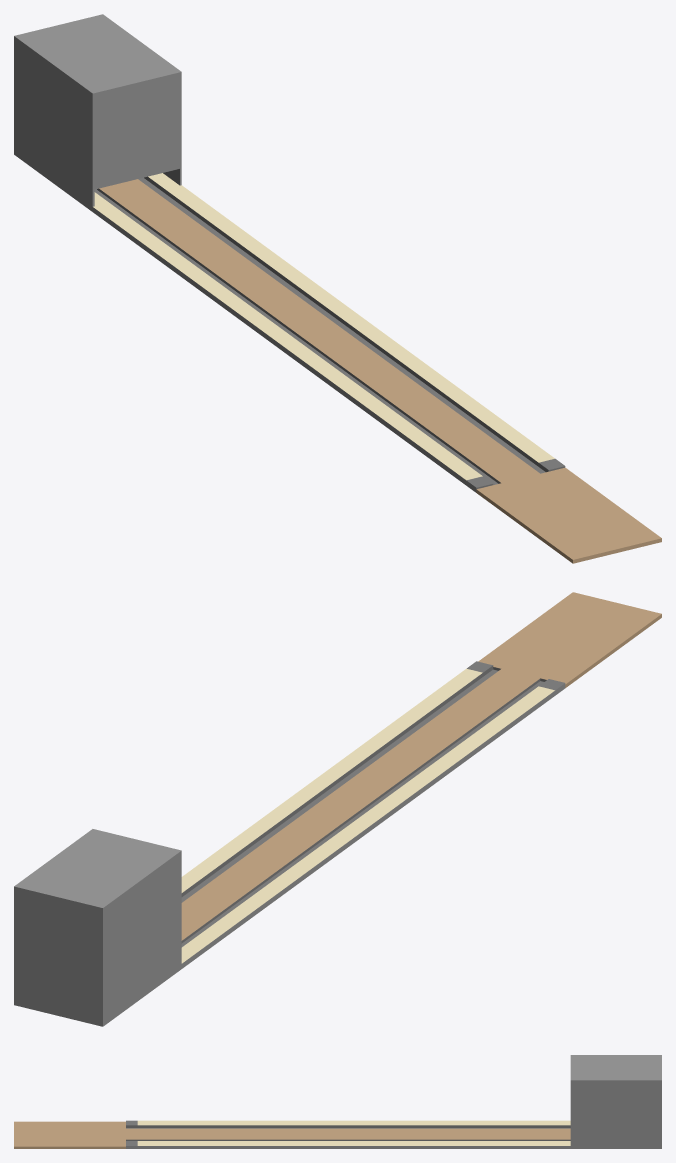
The picture shows the model from 3 angles, top to bottom: view 1: azimuth 30°, elevation 25°; view 2: azimuth 150°, elevation 25°; view 3: azimuth 270°, elevation 25°; orthographic projection. The views are drawn at different scales.
Parts seen in each view (by area): view 1: imagetostl_mesh; view 2: imagetostl_mesh; view 3: imagetostl_mesh.
Boxes of the visible parts, box(x1,y1,x2,y2) form: imagetostl_mesh: box(14, 14, 661, 563); imagetostl_mesh: box(14, 592, 661, 1026); imagetostl_mesh: box(14, 1055, 661, 1148).
Size of the model in its own units: 9578 by 12205 by 104213.
